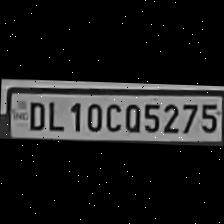0: (82, 99, 102, 132)
1: (64, 98, 84, 132)
2: (160, 100, 180, 134)
5: (196, 100, 218, 134), (140, 100, 160, 134)
7: (178, 100, 196, 134)
C: (103, 99, 121, 133)
D: (23, 98, 47, 131)
L: (44, 96, 64, 132)
Q: (122, 100, 142, 134)
